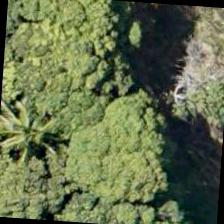Kelapa_Sawit: (0, 86, 77, 182)
